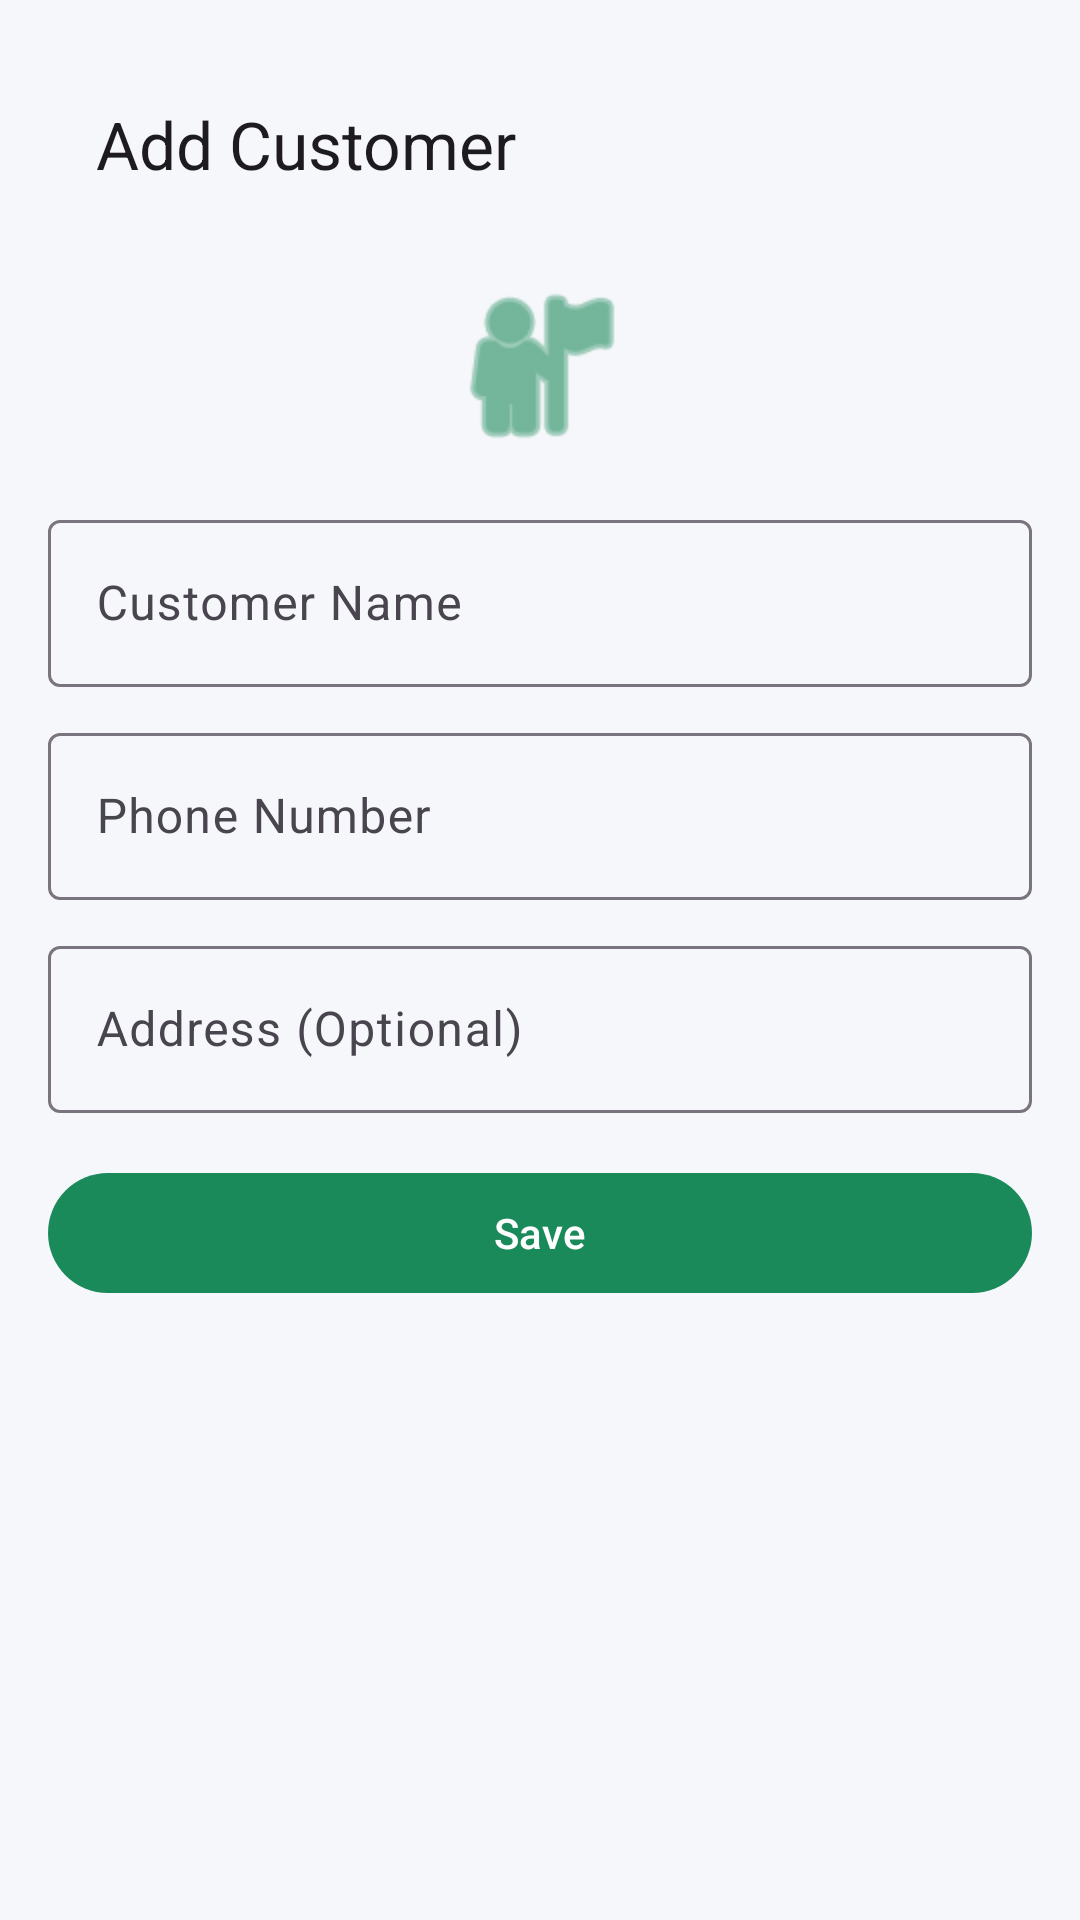

Point at icon controls on the screen. Image size 1080x1920, points as [x,y].
myplaces: [542,366]
